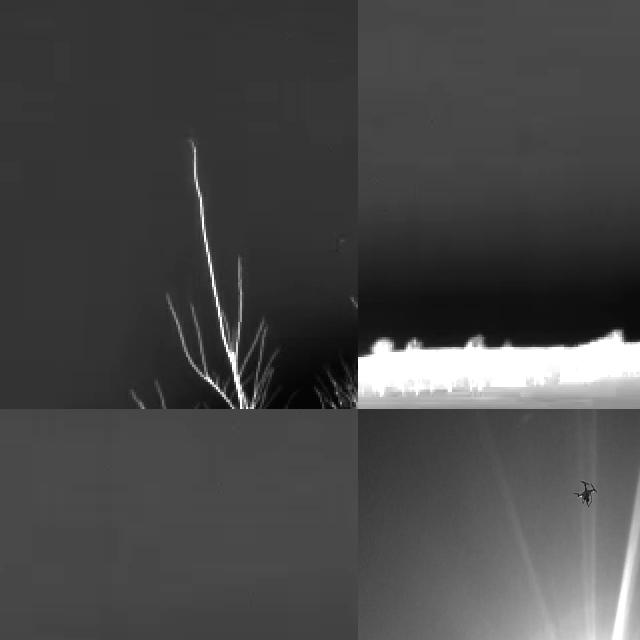drone: (576, 477, 599, 512)
